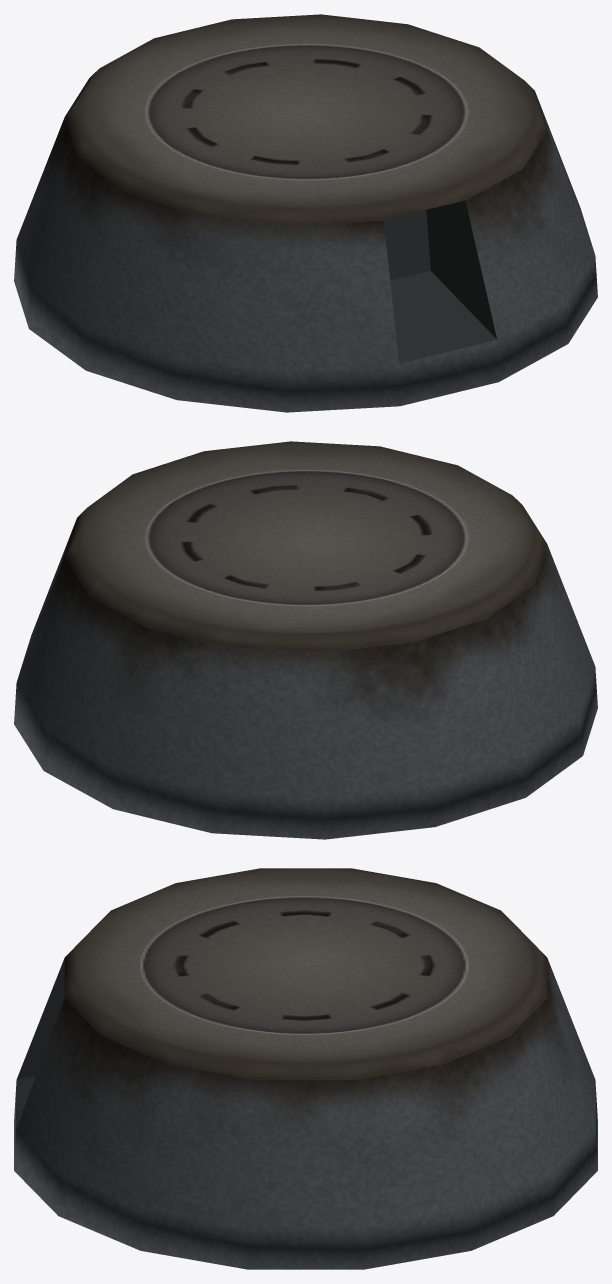
The model's file is TurretDome.fbx.
The picture shows the model from 3 angles, top to bottom: view 1: azimuth 30°, elevation 25°; view 2: azimuth 150°, elevation 25°; view 3: azimuth 270°, elevation 25°; orthographic projection.
Parts seen in each view (by area): view 1: TurretHead; view 2: TurretHead; view 3: TurretHead.
Boxes of the visible parts, left/top/right/bottom form: TurretHead: left=14, top=14, right=597, bottom=412; TurretHead: left=14, top=441, right=597, bottom=839; TurretHead: left=14, top=868, right=597, bottom=1269.
Bounding box in the file's own units: 1.55 × 0.5298 × 1.55.
Materials: 1 (1 with a texture image).
